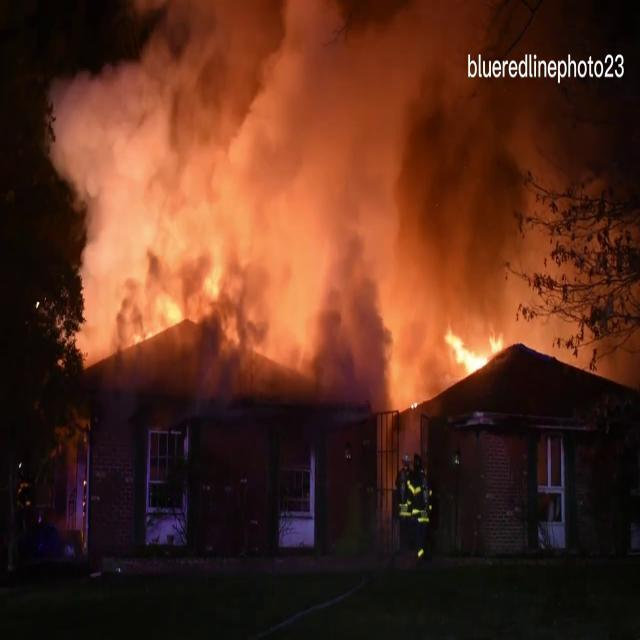Fire: (444, 310, 511, 384)
Smoke: (56, 0, 639, 404)
